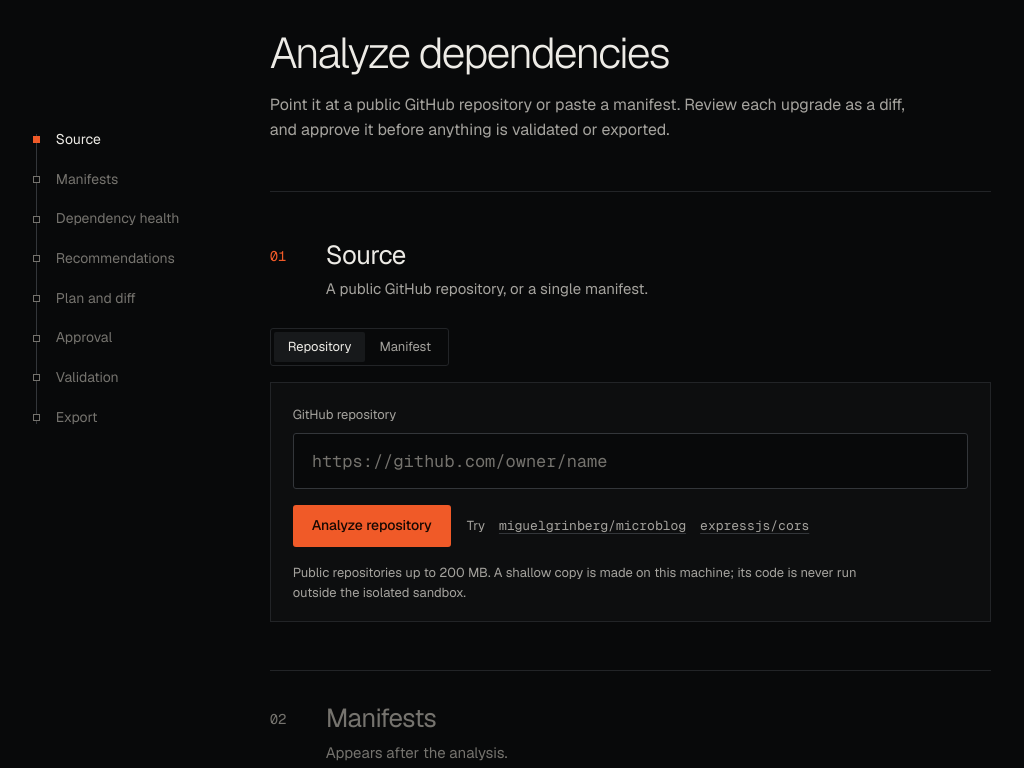
Test case: ManifestAnalyzer Component › analyzes a pasted manifest on the server and shows dependency health
The image size is (1024, 768).
Click the tab with test id "source-manifest" at (405, 347), box [366,332,445,362]
(page scrolled)
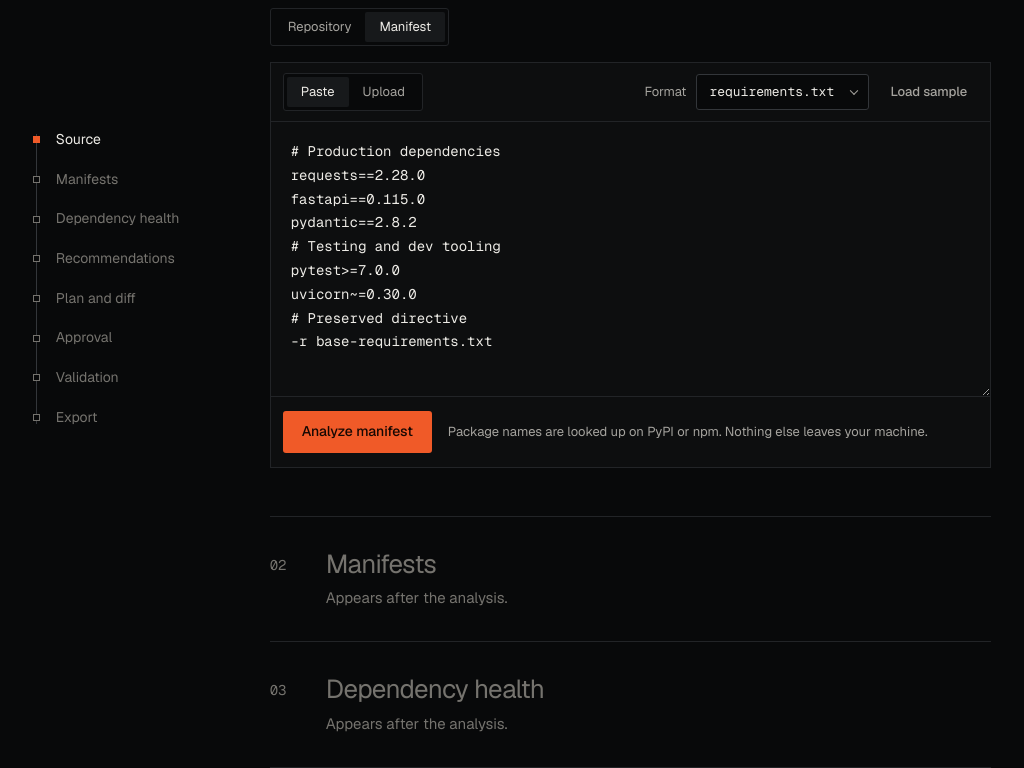
Click the button with test id "btn-analyze" at (357, 432), box [283,411,432,453]
(page scrolled)
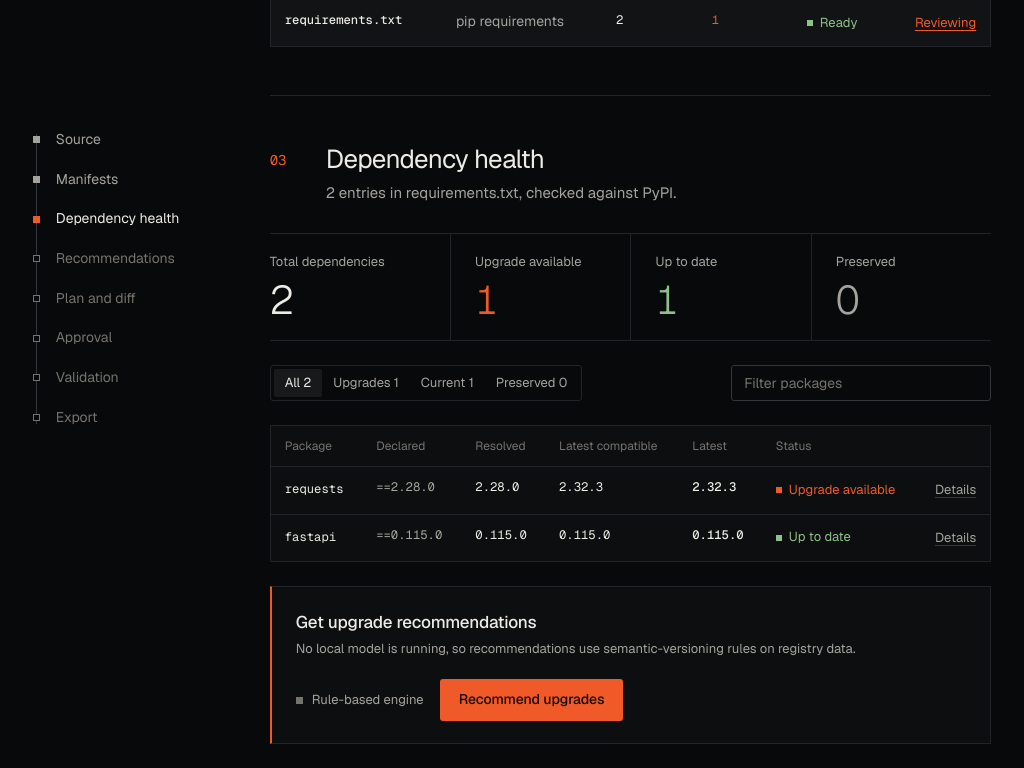
Check: the element with test id "analysis-results" is shown, box [270,233,991,744]
Check: the text "Total dependencies" is shown, box [270,253,385,270]
